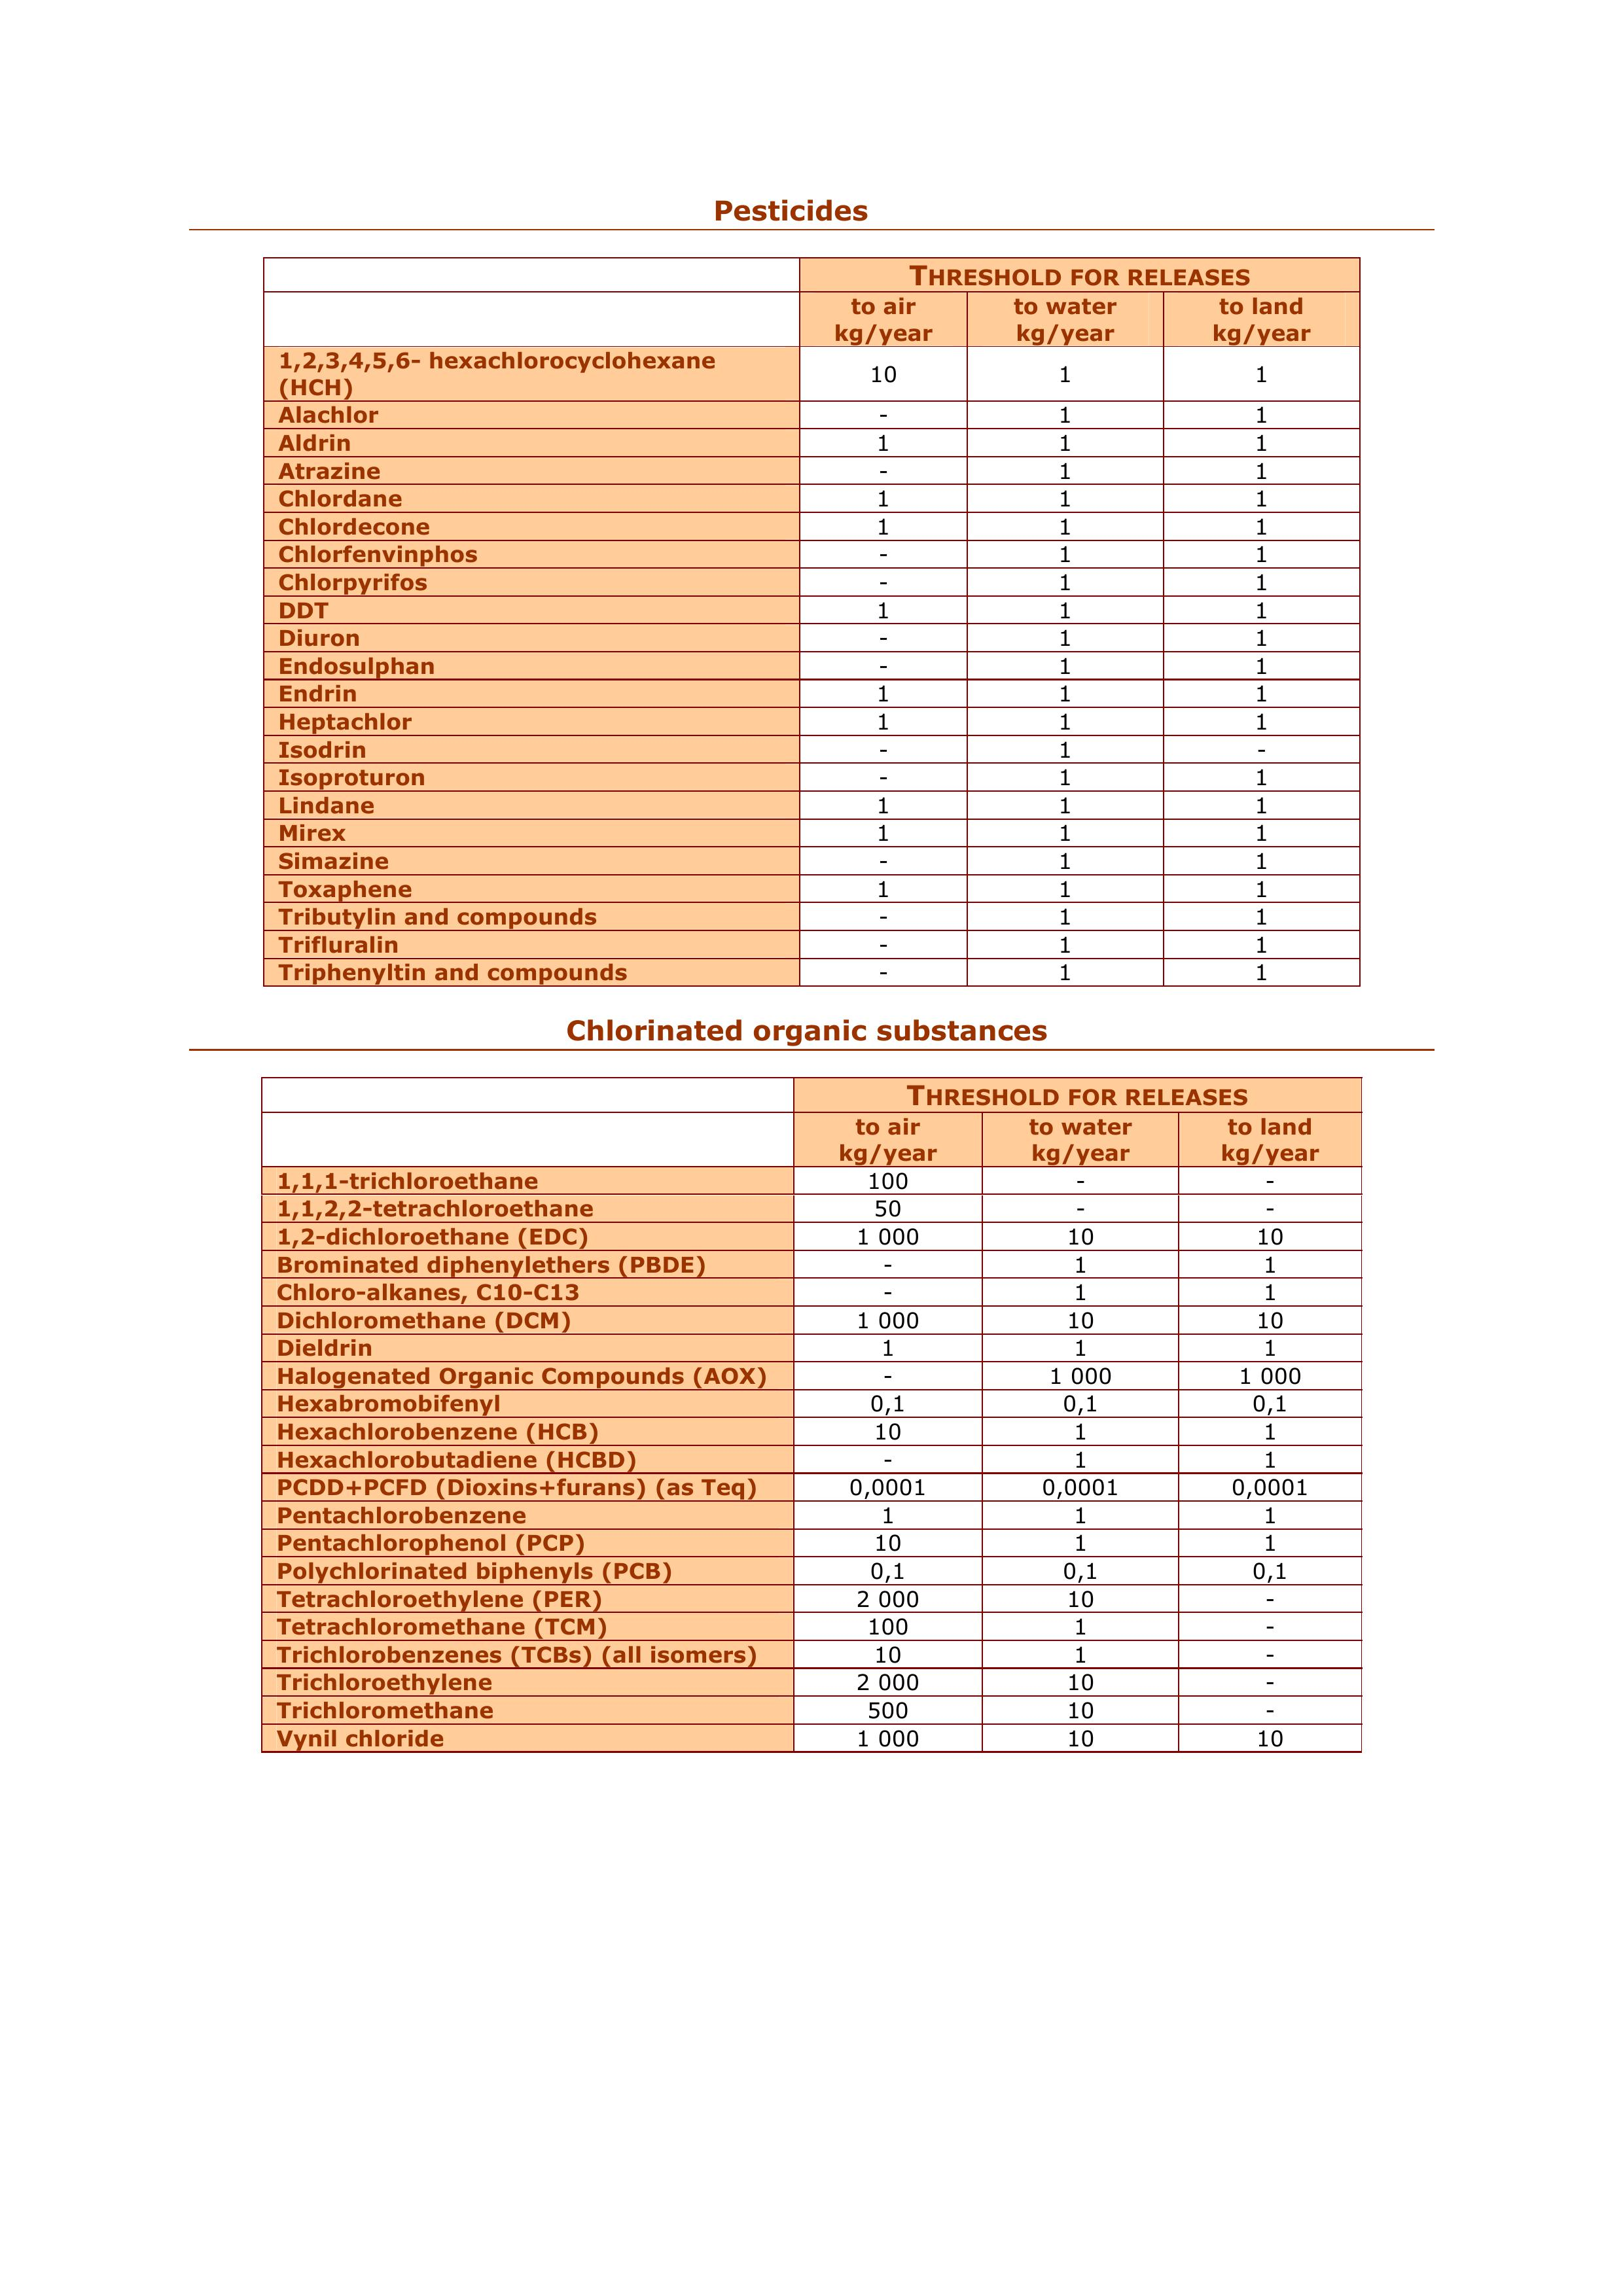table: (241, 237, 1374, 1009), (242, 1064, 1377, 1775)
